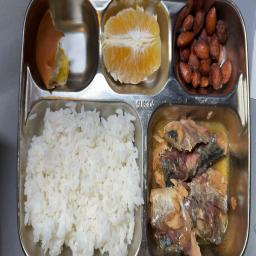100_fish: (154, 114, 238, 254)
100_nuts: (176, 6, 232, 91)
100_orange: (100, 0, 161, 84)
100_rice: (24, 104, 144, 255)
25_bread: (36, 0, 99, 91)
